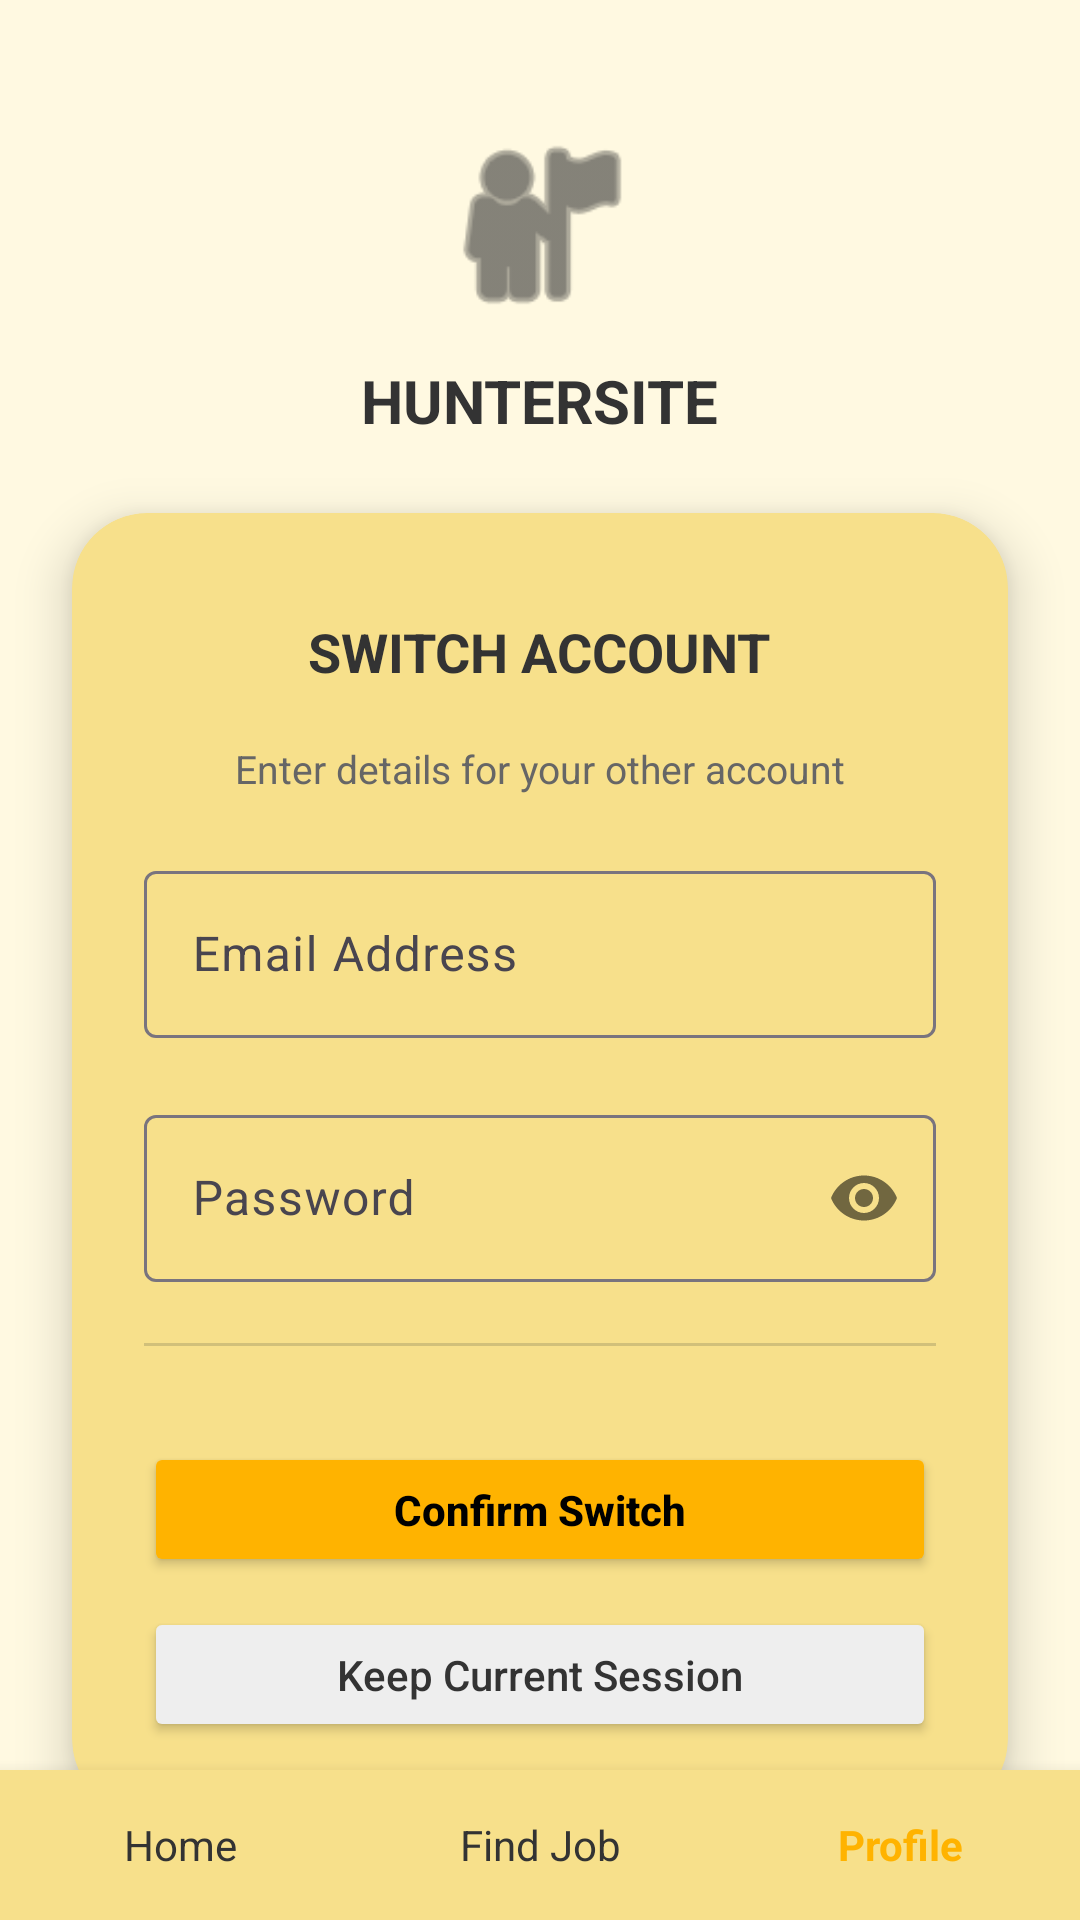

Icon click points for this 1080px x 1920px phone screenshot, format (x=x, y=y):
myplaces: (x=542, y=225)
